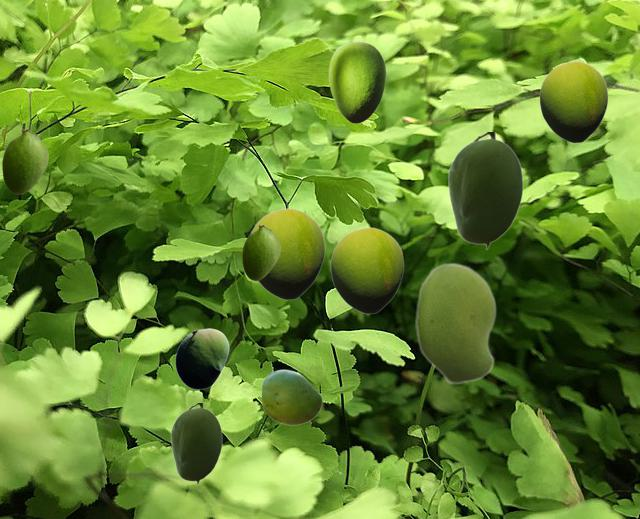green_mango: (415, 262, 496, 384), (447, 132, 522, 249), (250, 208, 324, 299), (330, 227, 403, 313), (539, 61, 607, 142), (328, 41, 385, 122), (170, 403, 221, 484), (261, 369, 321, 424), (175, 328, 228, 388), (2, 128, 47, 193), (242, 224, 279, 279)
